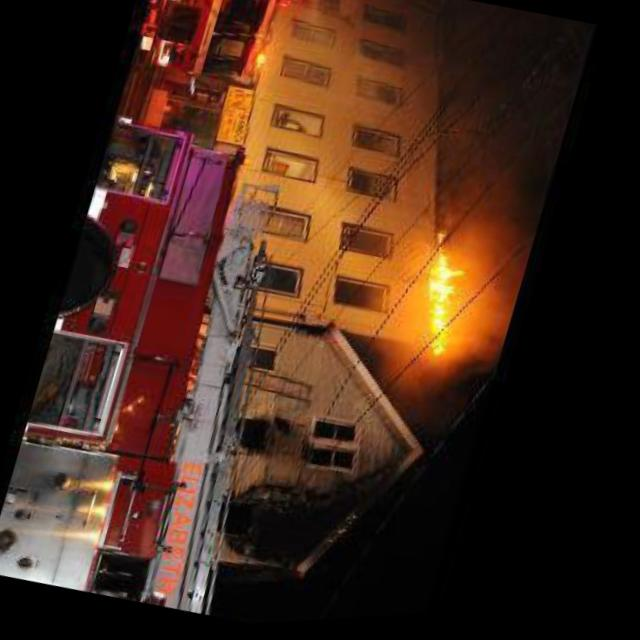Fire: (412, 246, 479, 365)
